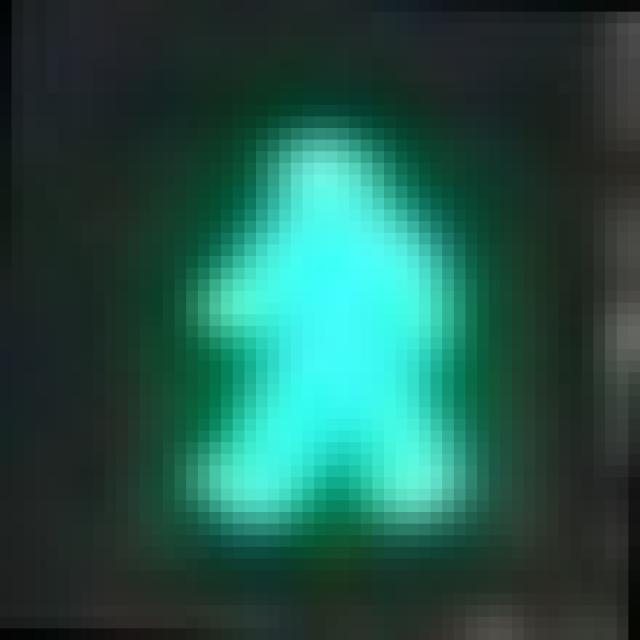geen-crossing: (104, 81, 500, 524)
